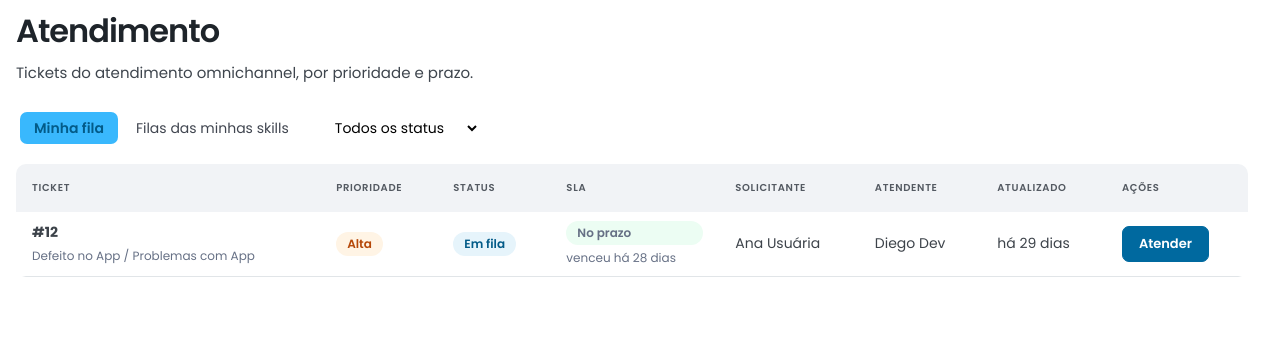
Test: AttendanceQueueComponent › shows the API message and reloads on a 409
The width and height of the screenshot is (1265, 354).
Click the button "Atender" at coordinates (1165, 244), box [1122, 226, 1209, 262]
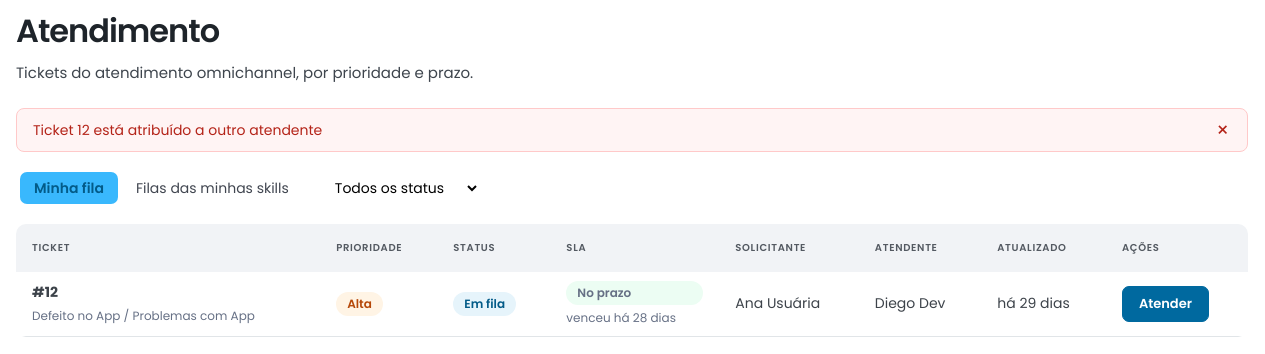
Result: the text "Ticket 12 está atribuído a outro atendente" is shown at [33, 120, 322, 140]
